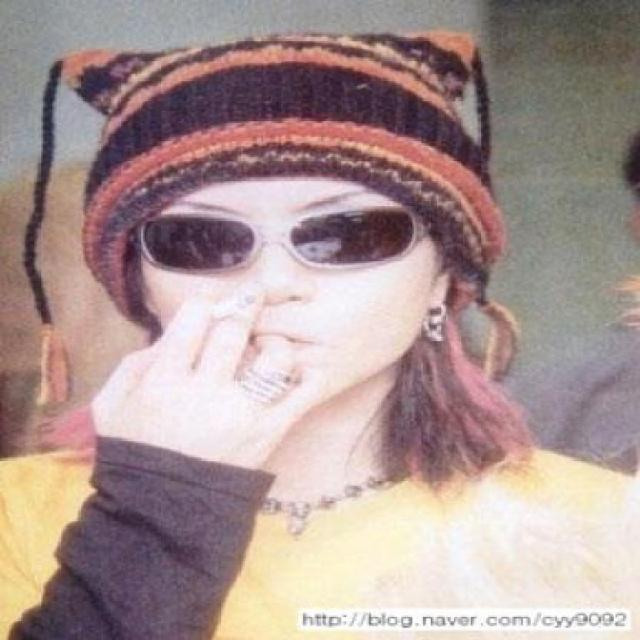hat: (32, 33, 511, 401)
